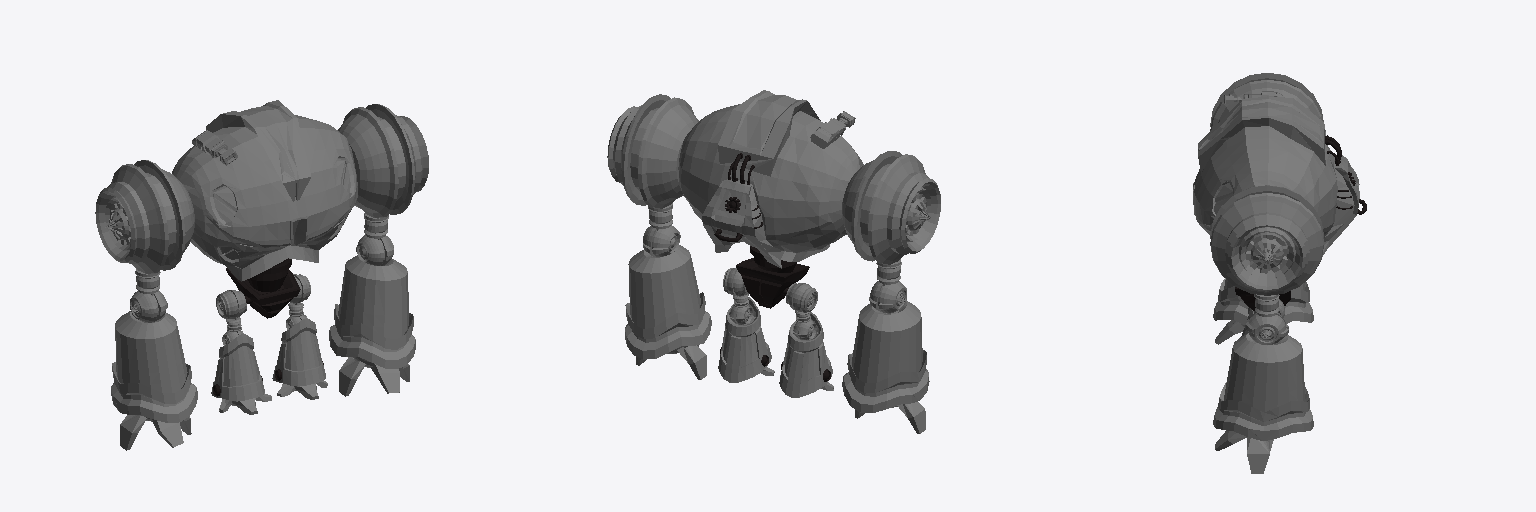
Rendered from Robot.obj.
3 views of the same model, side by side, from view 1: azimuth 30°, elevation 25°; view 2: azimuth 150°, elevation 25°; view 3: azimuth 270°, elevation 25° (orthographic).
Parts seen in each view (by area): view 1: Chest, Robot polySurface23 leftShoulder2 leftShoulder1, Robot pCylinder34 pCylinder19 polySurface38, Robot polySurface37 pCylinder34 pCylinder19, Robot leftShoulder2 leftShoulder1 polySurface24, Robot polySurface46 polySurface19 pCylinder10 polySurface53, Robot polySurface52 polySurface46 polySurface19 pCylinder10, polySurface32, Robot_pCube7, Robot polySurface35 elbow3 elbow2, Robot elbow3 elbow2 polySurface36, torso Robot (+4 smaller); view 2: Chest, Robot polySurface23 leftShoulder2 leftShoulder1, Robot pCylinder34 pCylinder19 polySurface38, Robot polySurface37 pCylinder34 pCylinder19, Robot leftShoulder2 leftShoulder1 polySurface24, Robot polySurface46 polySurface19 pCylinder10 polySurface53, Robot polySurface52 polySurface46 polySurface19 pCylinder10, Robot_pCube7, Robot polySurface35 elbow3 elbow2, Robot elbow3 elbow2 polySurface36, gun gun1, Robot polySurface42 polySurface41 polySurface13 pSphere7 (+2 smaller); view 3: Chest, Robot leftShoulder2 leftShoulder1 polySurface24, Robot pCylinder34 pCylinder19 polySurface38, Robot polySurface23 leftShoulder2 leftShoulder1, Robot polySurface37 pCylinder34 pCylinder19, polySurface32, Robot elbow3 elbow2 polySurface36.
Part boxes in pixels (x1,y1,x2,y2): Chest: (172, 100, 357, 281); Robot polySurface23 leftShoulder2 leftShoulder1: (95, 160, 194, 274); Robot pCylinder34 pCylinder19 polySurface38: (329, 255, 415, 368); Robot polySurface37 pCylinder34 pCylinder19: (111, 311, 197, 422); Robot leftShoulder2 leftShoulder1 polySurface24: (338, 104, 428, 218); Robot polySurface46 polySurface19 pCylinder10 polySurface53: (272, 319, 325, 386); Robot polySurface52 polySurface46 polySurface19 pCylinder10: (211, 334, 264, 401); polySurface32: (339, 357, 409, 396); Robot_pCube7: (226, 268, 300, 318); Robot polySurface35 elbow3 elbow2: (130, 290, 167, 322); Robot elbow3 elbow2 polySurface36: (356, 234, 393, 265); torso Robot: (247, 258, 291, 291); Chest: (678, 90, 863, 268); Robot polySurface23 leftShoulder2 leftShoulder1: (842, 151, 940, 264); Robot pCylinder34 pCylinder19 polySurface38: (625, 245, 711, 359); Robot polySurface37 pCylinder34 pCylinder19: (842, 300, 929, 412); Robot leftShoulder2 leftShoulder1 polySurface24: (607, 94, 698, 208); Robot polySurface46 polySurface19 pCylinder10 polySurface53: (718, 297, 771, 382); Robot polySurface52 polySurface46 polySurface19 pCylinder10: (779, 312, 832, 397); Robot_pCube7: (736, 258, 809, 308); Robot polySurface35 elbow3 elbow2: (869, 281, 906, 313); Robot elbow3 elbow2 polySurface36: (643, 225, 680, 256); gun gun1: (810, 111, 855, 148); Robot polySurface42 polySurface41 polySurface13 pSphere7: (786, 283, 817, 312); Chest: (1193, 97, 1359, 256); Robot leftShoulder2 leftShoulder1 polySurface24: (1210, 185, 1323, 295); Robot pCylinder34 pCylinder19 polySurface38: (1213, 333, 1313, 440); Robot polySurface23 leftShoulder2 leftShoulder1: (1210, 73, 1323, 130); Robot polySurface37 pCylinder34 pCylinder19: (1213, 278, 1313, 324); polySurface32: (1215, 430, 1273, 473); Robot elbow3 elbow2 polySurface36: (1245, 313, 1288, 344).
Size of the model in its own units: 220 by 200 by 106.